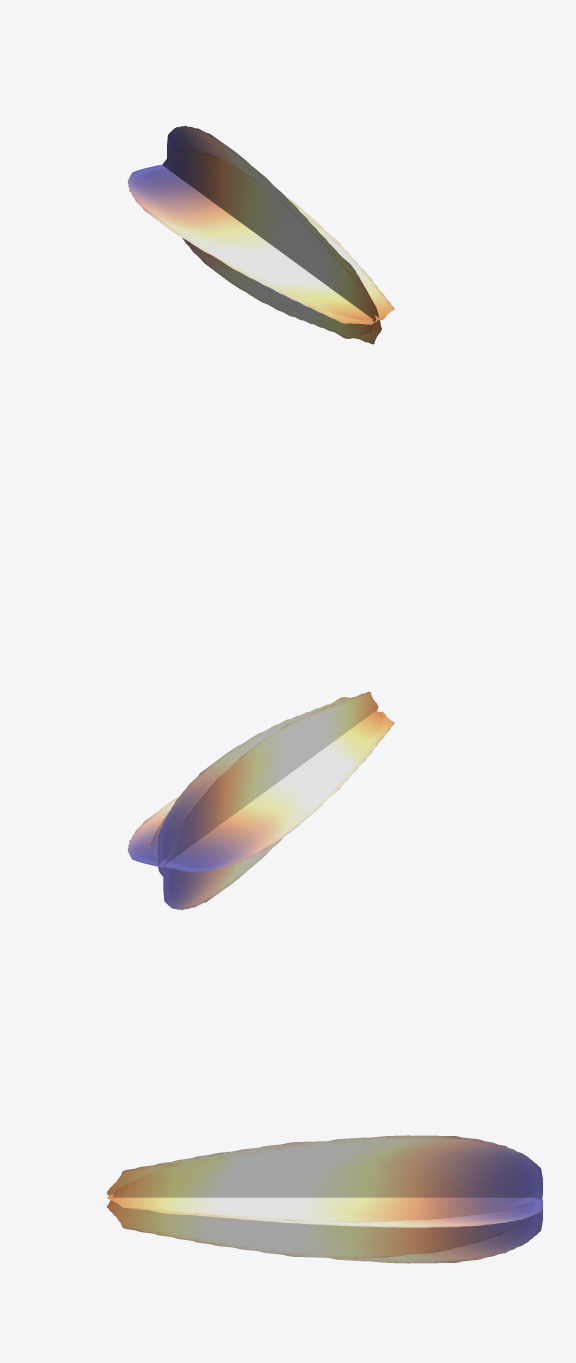
Rendered from Alpha_5.fbx.
3 views of the same model, one above another, from view 1: azimuth 30°, elevation 25°; view 2: azimuth 150°, elevation 25°; view 3: azimuth 270°, elevation 25° (orthographic).
Parts seen in each view (by area): view 1: Plane_004; view 2: Plane_004; view 3: Plane_004.
Part boxes in pixels (<box>): Plane_004: <box>127,125,394,344</box>; Plane_004: <box>127,691,394,910</box>; Plane_004: <box>106,1135,542,1263</box>.
Size of the model in its own units: 0.4742 by 0.4742 by 0.7978.
